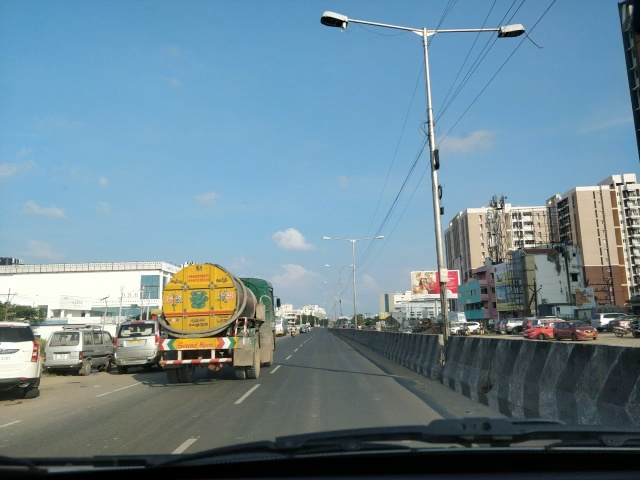car: (1, 316, 45, 401), (42, 328, 109, 375), (115, 323, 161, 372), (555, 322, 602, 341), (526, 320, 568, 336), (591, 313, 631, 329), (502, 318, 528, 333), (459, 322, 485, 333), (451, 322, 466, 336), (402, 327, 416, 335), (300, 326, 310, 336)
motorbike: (612, 323, 637, 338), (291, 327, 297, 339)
truck: (162, 266, 276, 387)
